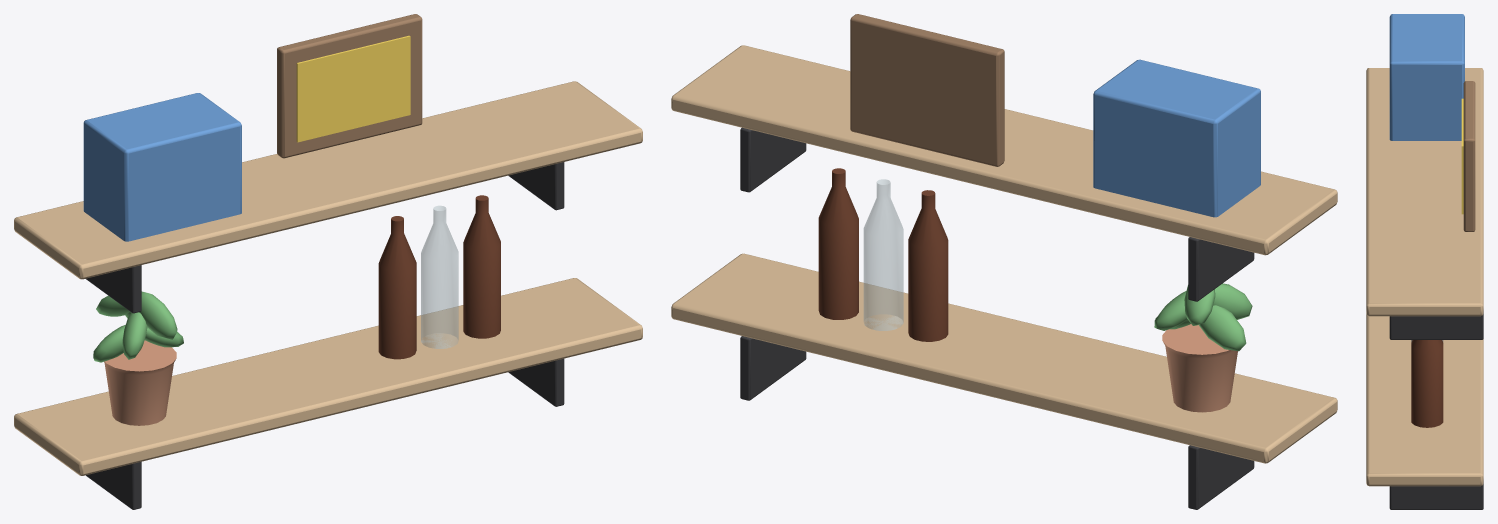
File: WallShelf.fbx
The picture shows the model from 3 angles, left to right: view 1: azimuth 30°, elevation 25°; view 2: azimuth 150°, elevation 25°; view 3: azimuth 270°, elevation 25°; orthographic projection. The views are drawn at different scales.
Parts seen in each view (by area): view 1: WallShelf; view 2: WallShelf; view 3: WallShelf.
Boxes of the visible parts, box(x1,y1,x2,y2) form: WallShelf: box(14, 14, 642, 509); WallShelf: box(671, 14, 1337, 509); WallShelf: box(1366, 14, 1483, 509).
Bounding box in the file's own units: 1.2 × 0.775 × 0.25.
